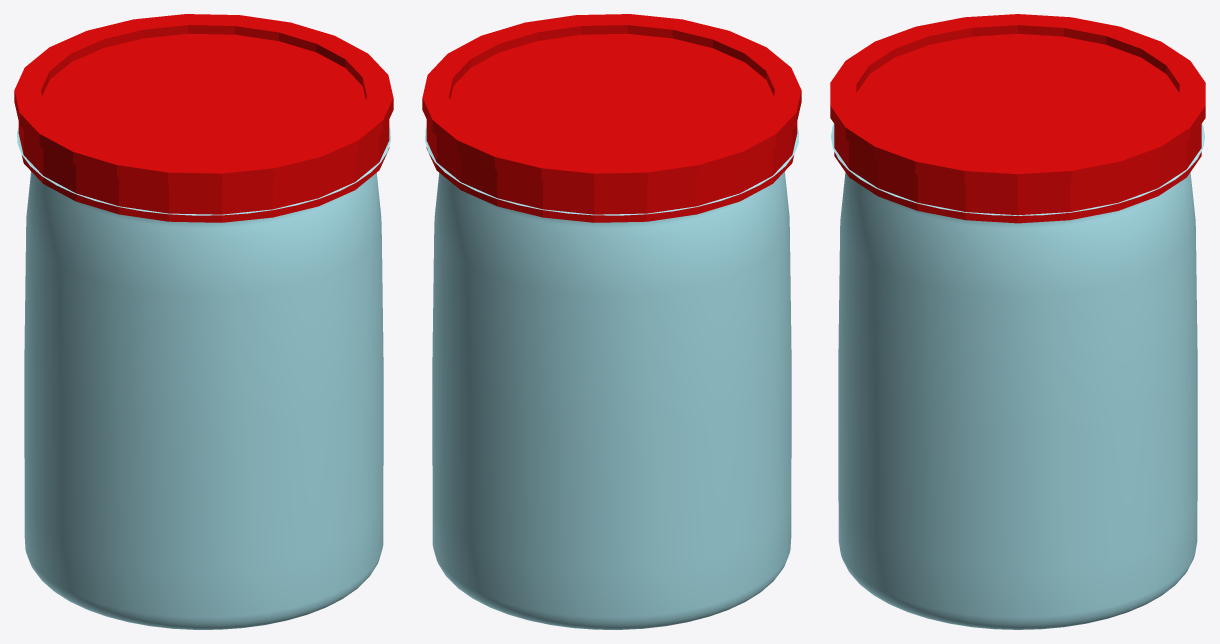
The model's file is Jar.obj.
3 views of the same model, side by side, from view 1: azimuth 30°, elevation 25°; view 2: azimuth 150°, elevation 25°; view 3: azimuth 270°, elevation 25° (orthographic).
Parts seen in each view (by area): view 1: Cylinder002, Object002; view 2: Cylinder002, Object002; view 3: Cylinder002, Object002.
Boxes of the visible parts, x1,y1,x2,y2 form: Cylinder002: (17,127,390,629); Object002: (14,14,393,222); Cylinder002: (425,127,798,629); Object002: (422,14,801,222); Cylinder002: (831,123,1204,629); Object002: (830,14,1205,223).
Bounding box in the file's own units: 283393 × 389227 × 280509.
